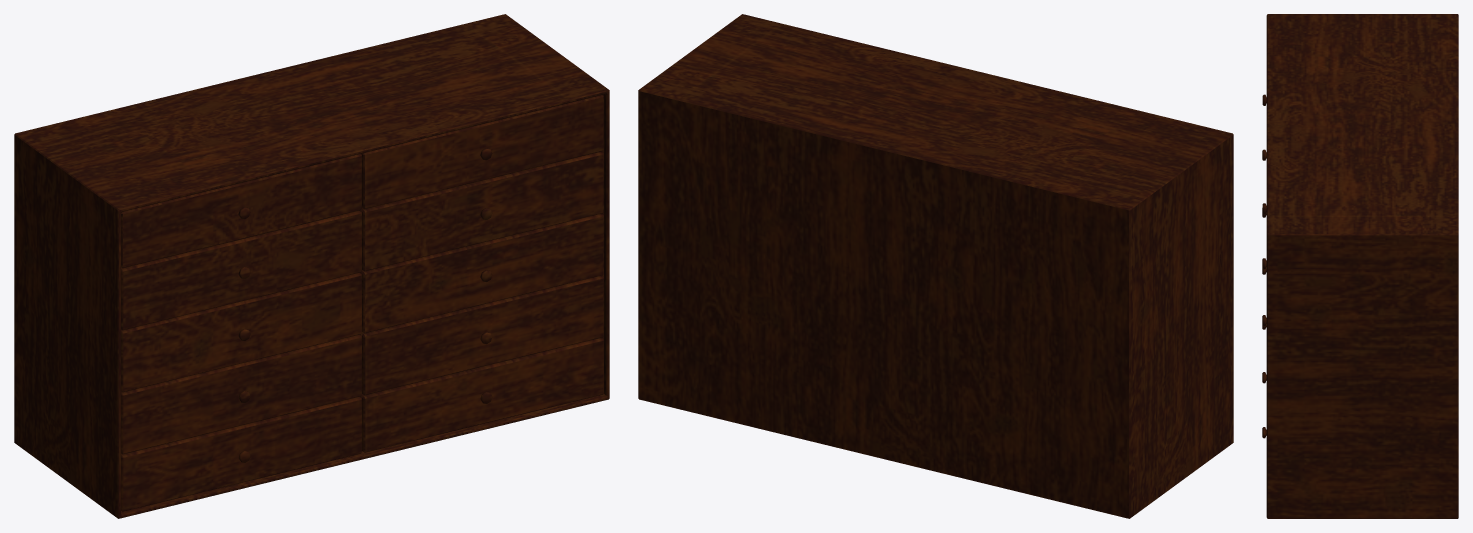
File: dresser_wide.glb
The picture shows the model from 3 angles, left to right: view 1: azimuth 30°, elevation 25°; view 2: azimuth 150°, elevation 25°; view 3: azimuth 270°, elevation 25°; orthographic projection. The views are drawn at different scales.
Visible parts, largest first — view 1: dresser_315, dresser_drawer_315_8, dresser_drawer_315_6, dresser_drawer_315_4, dresser_drawer_315_7, dresser_drawer_315_5, dresser_drawer_315_3, dresser_drawer_315_10, dresser_drawer_315_9, dresser_drawer_315_2, dresser_drawer_315_1; view 2: dresser_315; view 3: dresser_315.
Part boxes in pixels (x1,y1,x2,y2): dresser_315: [14, 14, 609, 518]; dresser_drawer_315_8: [362, 276, 603, 395]; dresser_drawer_315_6: [362, 214, 603, 333]; dresser_drawer_315_4: [362, 152, 603, 271]; dresser_drawer_315_7: [121, 334, 361, 454]; dresser_drawer_315_5: [121, 273, 361, 392]; dresser_drawer_315_3: [121, 211, 361, 330]; dresser_drawer_315_10: [362, 338, 603, 452]; dresser_drawer_315_9: [121, 397, 361, 511]; dresser_drawer_315_2: [362, 95, 603, 208]; dresser_drawer_315_1: [121, 154, 361, 267]; dresser_315: [638, 14, 1233, 518]; dresser_315: [1266, 14, 1458, 518].
Bounding box in the file's own units: 1.62 × 0.9722 × 0.6069.
Materials: 1 (1 with a texture image).
